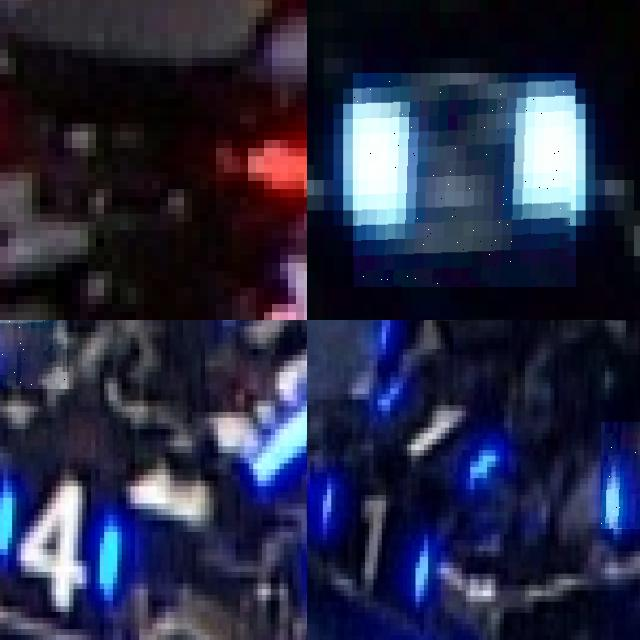B1: (314, 472, 432, 602), (377, 371, 504, 484), (601, 422, 640, 528)
B4: (0, 451, 121, 606), (0, 320, 66, 389)
Bs: (353, 73, 576, 287)
